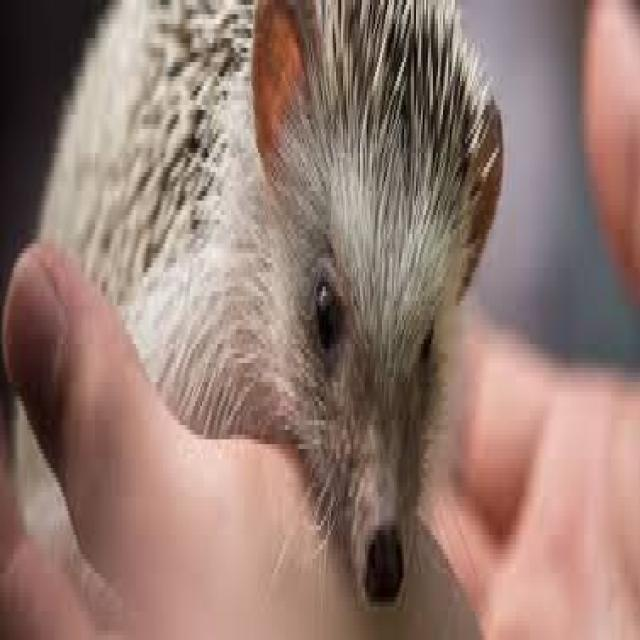Hedgehog: (30, 0, 505, 611)
